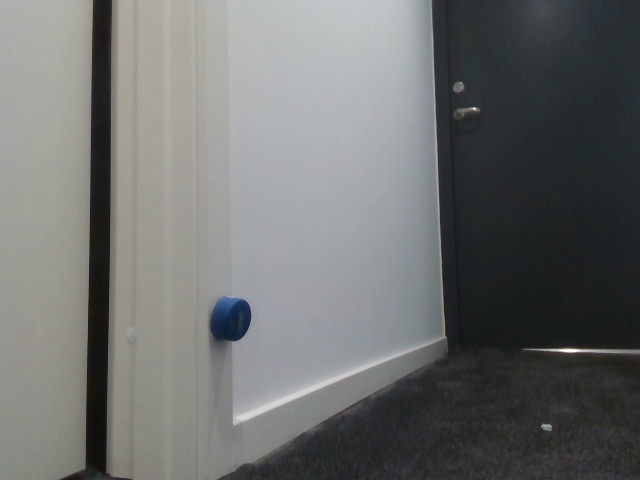alfa: (207, 291, 252, 342)
